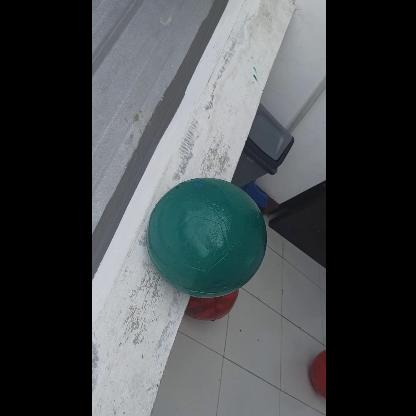green_ball: (148, 178, 266, 296)
